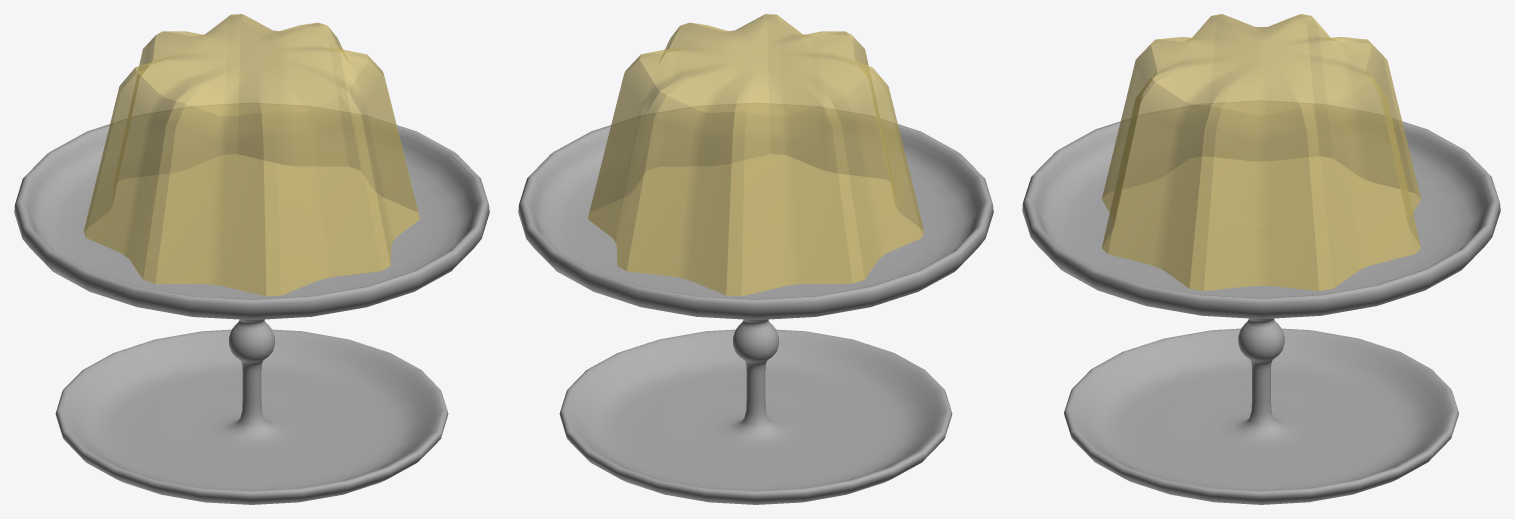
Rendered from pudding_color 1.fbx.
The picture shows the model from 3 angles, left to right: view 1: azimuth 30°, elevation 25°; view 2: azimuth 150°, elevation 25°; view 3: azimuth 270°, elevation 25°; orthographic projection.
Parts seen in each view (by area): view 1: revolvedSurface2, pCylinder3; view 2: revolvedSurface2, pCylinder3; view 3: revolvedSurface2, pCylinder3.
Boxes of the visible parts, x1,y1,x2,y2 form: revolvedSurface2: [14, 103, 489, 504]; pCylinder3: [83, 14, 419, 296]; revolvedSurface2: [518, 103, 993, 504]; pCylinder3: [588, 14, 924, 296]; revolvedSurface2: [1022, 101, 1500, 504]; pCylinder3: [1102, 14, 1420, 290].
Size of the model in its own units: 3.1 by 2.76 by 3.1.
